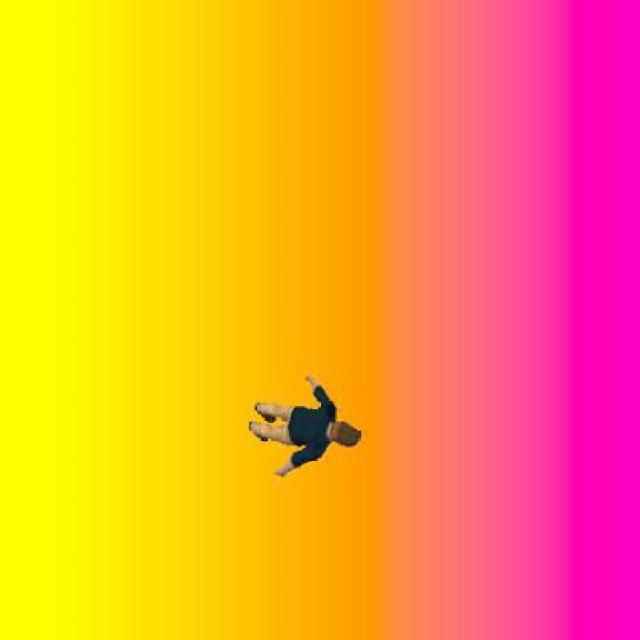Person: (246, 368, 366, 480)
